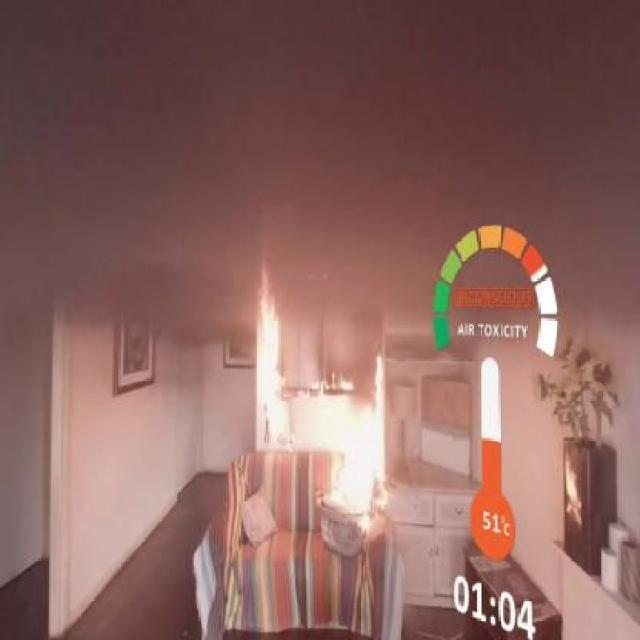fire: (314, 370, 390, 555), (232, 280, 292, 466)
smoke: (83, 27, 504, 264)
